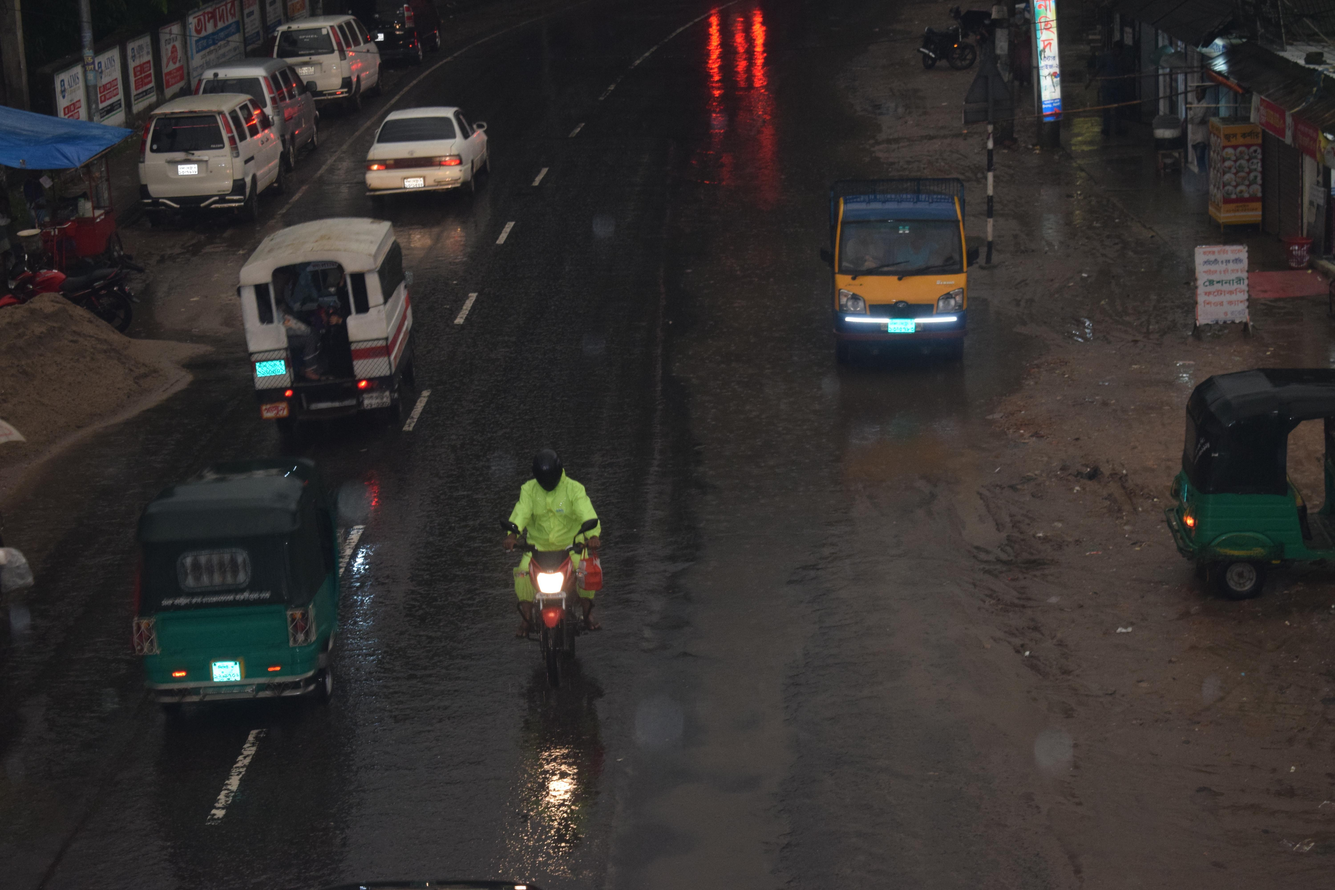Bike: (453, 410, 651, 730), (0, 213, 154, 359)
Car: (210, 195, 459, 478), (321, 71, 531, 256), (120, 74, 309, 271), (188, 50, 330, 177), (250, 4, 403, 114)
Truck: (773, 142, 1033, 389)
